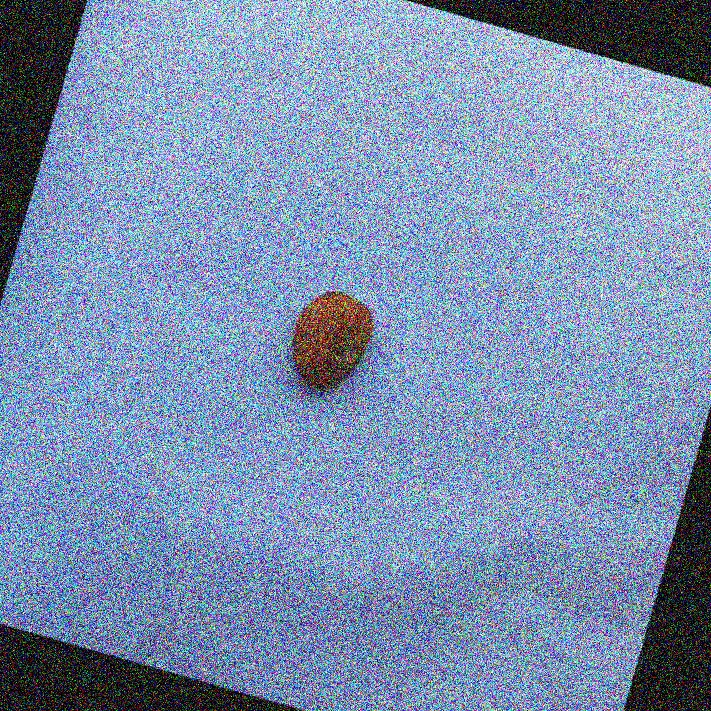grade3: (277, 278, 387, 406)
